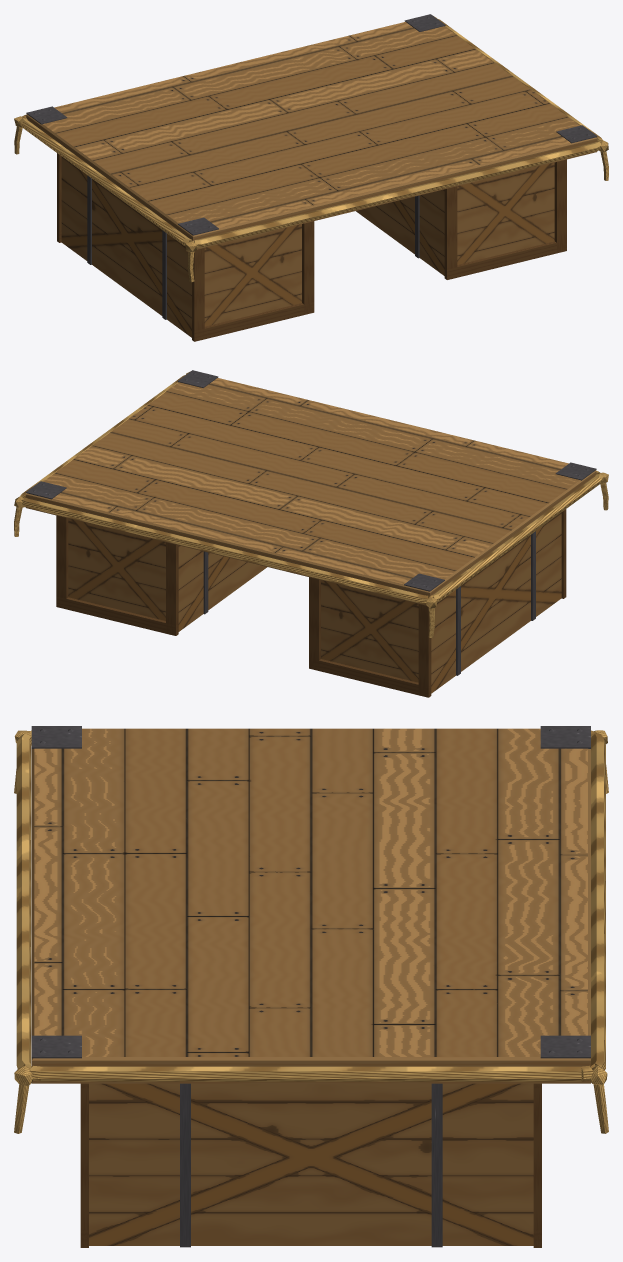
Rendered from Table_Deck.fbx.
The picture shows the model from 3 angles, top to bottom: view 1: azimuth 30°, elevation 25°; view 2: azimuth 150°, elevation 25°; view 3: azimuth 270°, elevation 25°; orthographic projection. The views are drawn at different scales.
Visible parts, largest first — view 1: Table_Deck; view 2: Table_Deck; view 3: Table_Deck.
Boxes of the visible parts, box(x1,y1,x2,y2) form: Table_Deck: box(14, 14, 608, 341); Table_Deck: box(14, 370, 608, 697); Table_Deck: box(14, 726, 608, 1247).
Size of the model in its own units: 5.84 by 1.63 by 4.26.
Materials: 1 (1 with a texture image).
